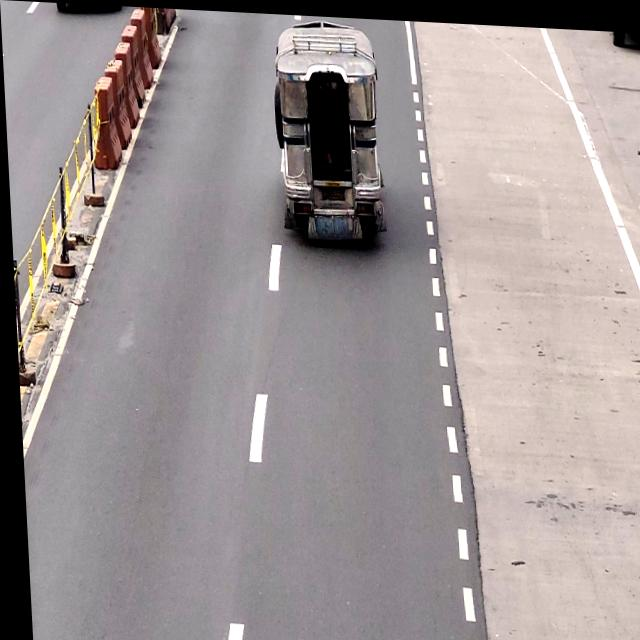Jeep: (271, 22, 383, 240)
